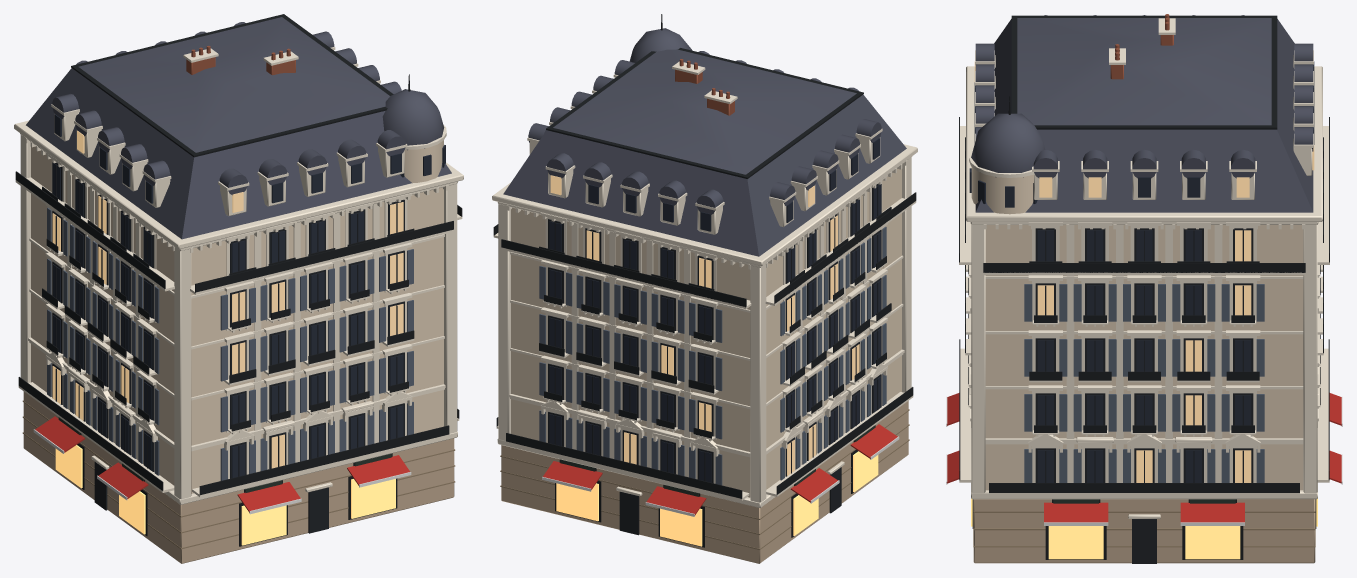
The model's file is building_corner.fbx.
3 renders of one model, left to right at view 1: azimuth 30°, elevation 25°; view 2: azimuth 150°, elevation 25°; view 3: azimuth 270°, elevation 25°, orthographic. The views are drawn at different scales.
Parts seen in each view (by area): view 1: building_corner; view 2: building_corner; view 3: building_corner.
Boxes of the visible parts, x1,y1,x2,y2 form: building_corner: (14, 14, 463, 563); building_corner: (492, 14, 917, 563); building_corner: (946, 14, 1342, 563).
Size of the model in its own units: 20.89 by 26.65 by 20.89.
